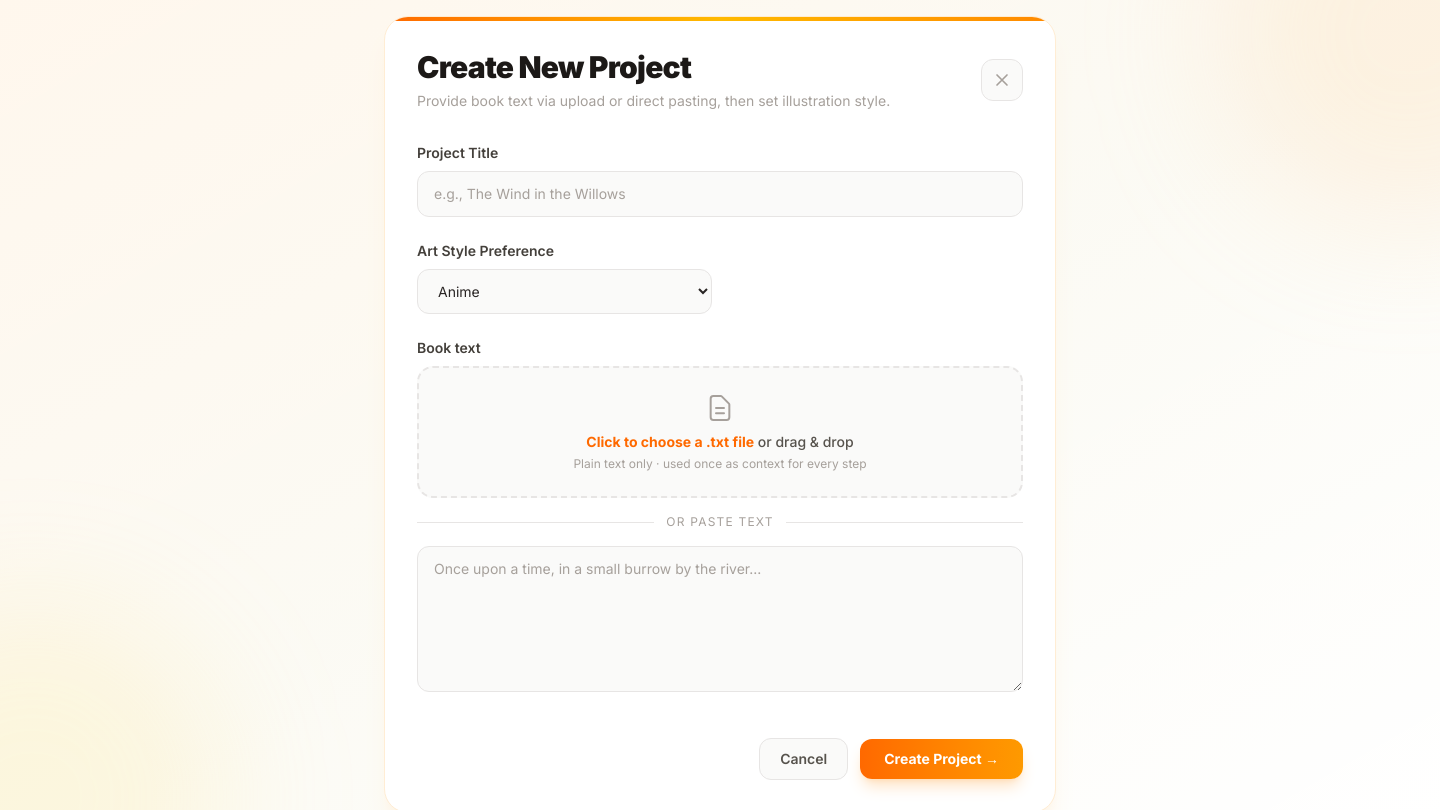
Test: NewProjectPage › should show custom text input when "Custom" style is selected
Select "Custom Style..." in the dropdown labelled "Art Style Preference": x=564, y=292 [417,269,712,314]
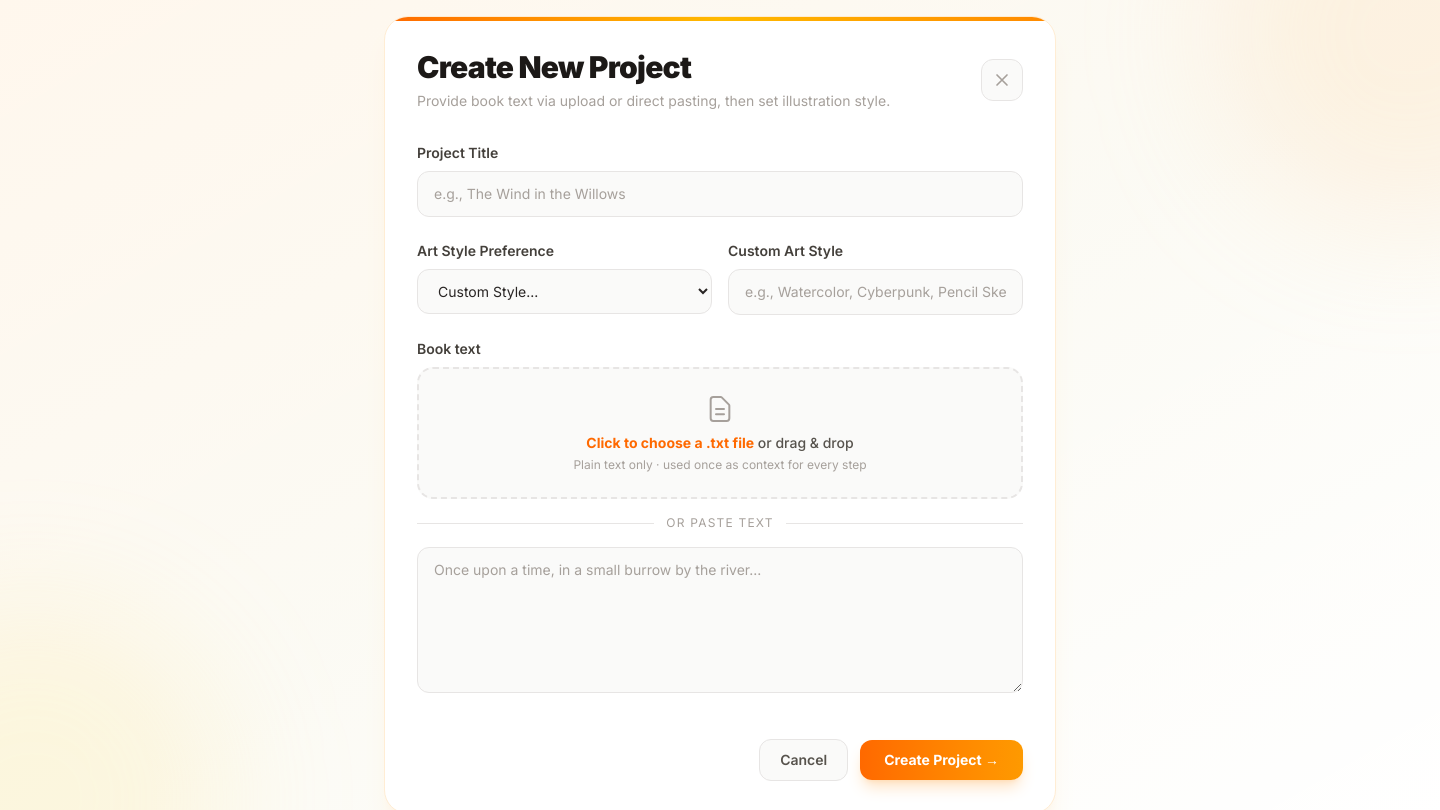
Expected: the field labelled "Custom Art Style" is shown, [728,269,1023,315]
